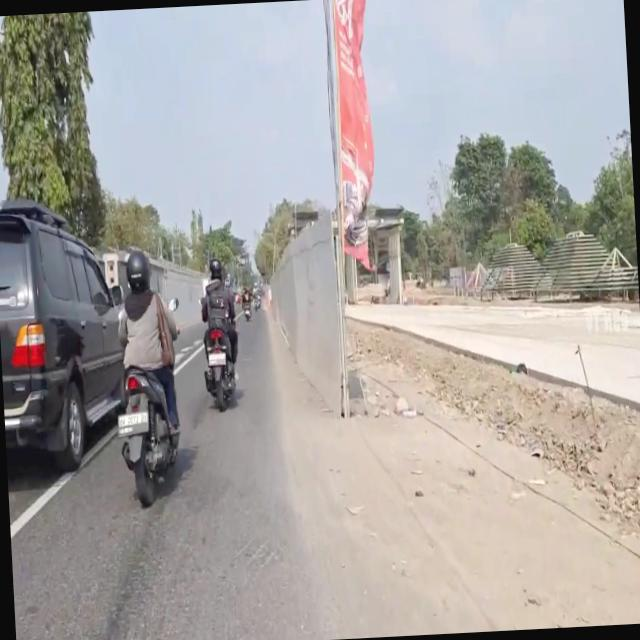WithHelmet: (112, 248, 187, 449), (199, 257, 241, 385), (241, 285, 253, 312)
